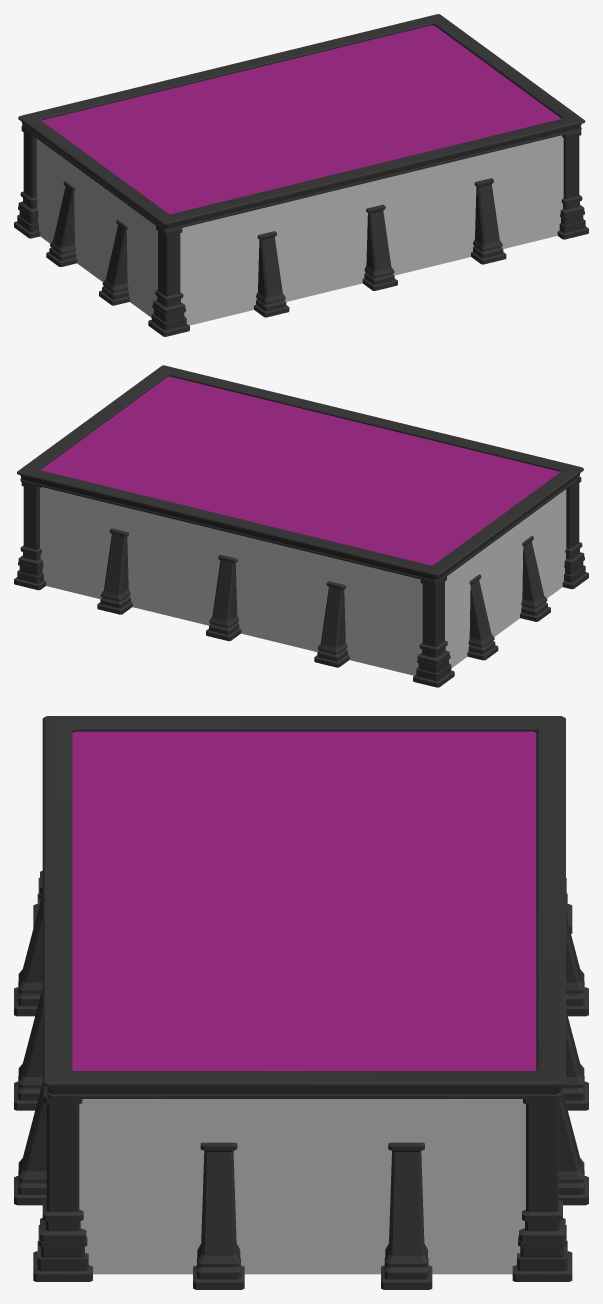
File: SM_platform_02.fbx
3 views of the same model, one above another, from view 1: azimuth 30°, elevation 25°; view 2: azimuth 150°, elevation 25°; view 3: azimuth 270°, elevation 25° (orthographic). The views are drawn at different scales.
Visible parts, largest first — view 1: Box368; view 2: Box368; view 3: Box368.
Boxes of the visible parts, box(x1,y1,x2,y2) form: Box368: box(14, 14, 588, 336); Box368: box(14, 365, 588, 687); Box368: box(14, 716, 588, 1289).
Bounding box in the file's own units: 1067 × 257 × 675.
